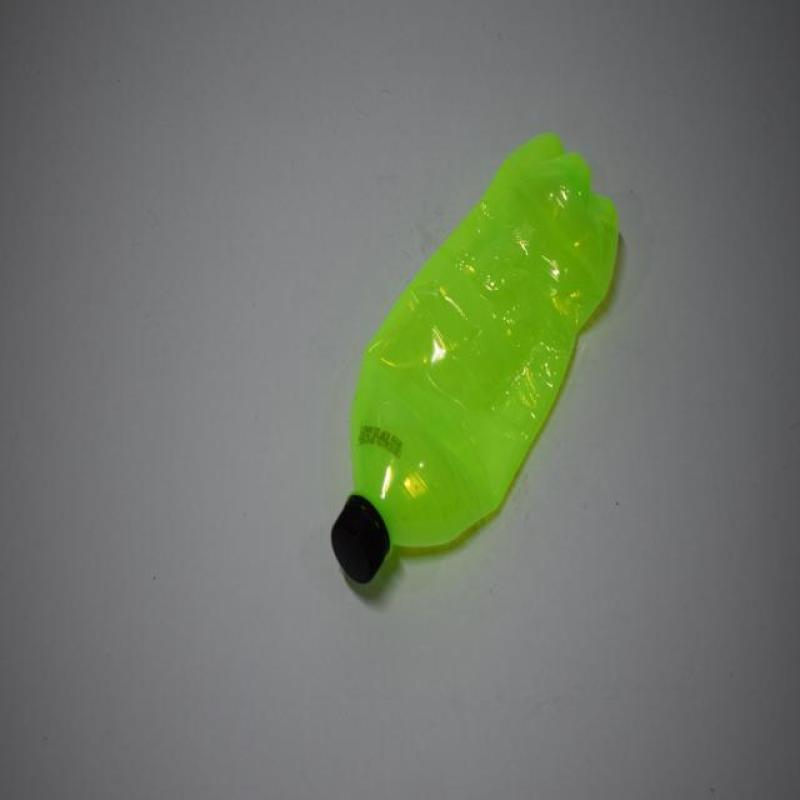botella: (335, 127, 626, 596)
